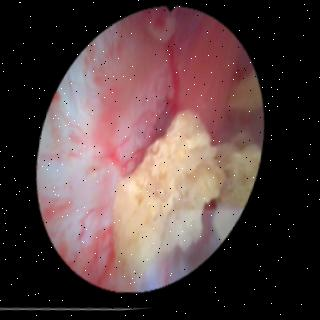stone: (118, 114, 262, 279), (230, 77, 261, 111)
tissue: (46, 14, 247, 285)
